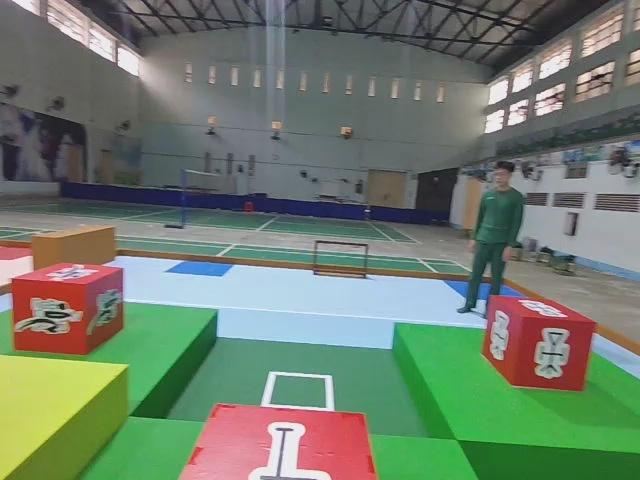R1: (10, 260, 124, 359)
R2 Real: (172, 402, 381, 480), (479, 290, 593, 394)
